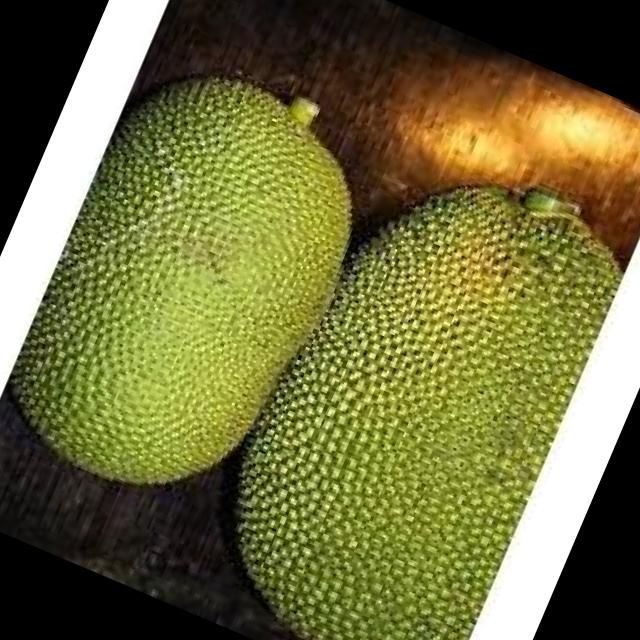Fruit: (0, 48, 427, 579), (141, 242, 601, 640)
